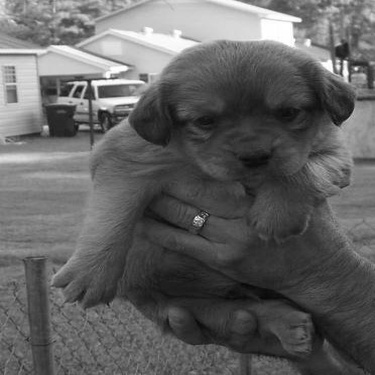dog: (47, 35, 366, 354)
